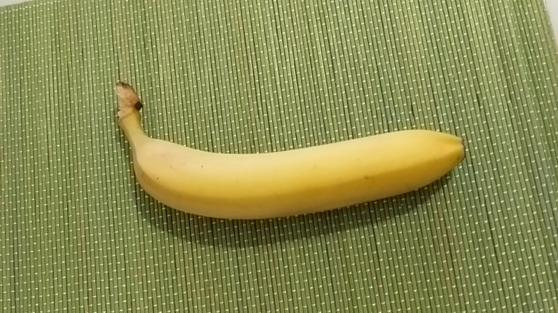banana: (111, 79, 466, 224)
